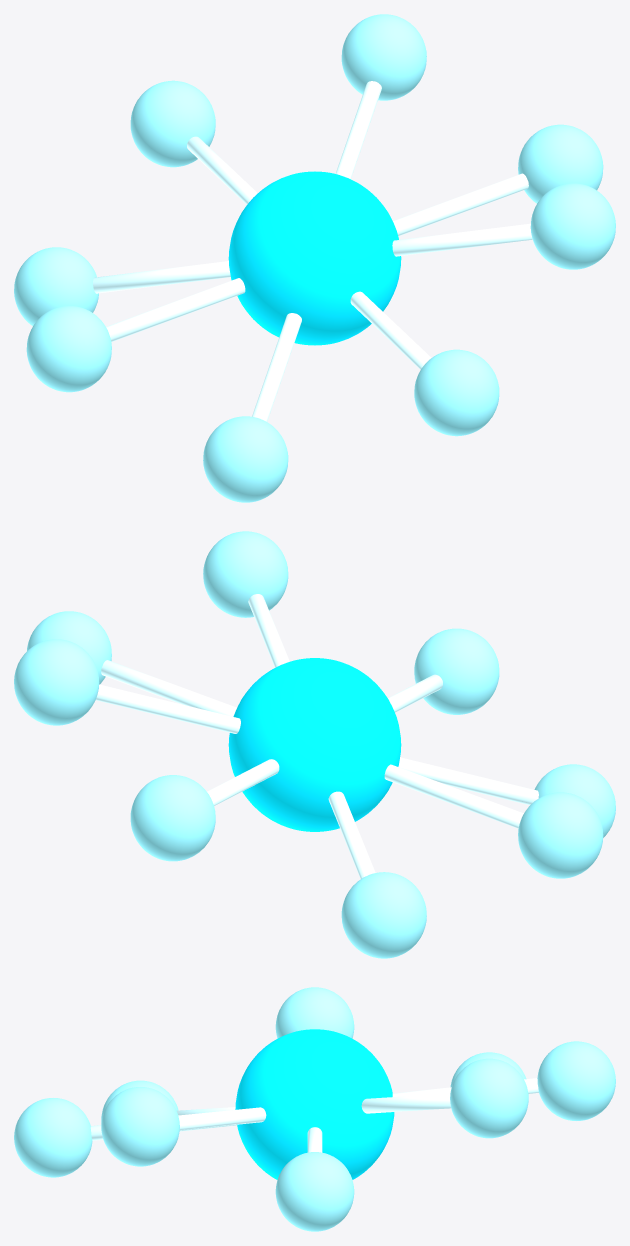
File: networking.glb
The picture shows the model from 3 angles, top to bottom: view 1: azimuth 30°, elevation 25°; view 2: azimuth 150°, elevation 25°; view 3: azimuth 270°, elevation 25°; orthographic projection. The views are drawn at different scales.
Parts seen in each view (by area): view 1: Sphere, Sphere.004, Sphere.006, Sphere.002, Sphere.007, Sphere.005, Sphere.003, Sphere.008, Sphere.001, Cylinder.001, Cylinder, Cylinder.006 (+5 smaller); view 2: Sphere, Sphere.008, Sphere.002, Sphere.003, Sphere.005, Sphere.007, Sphere.004, Sphere.006, Sphere.001, Cylinder.004, Cylinder.001, Cylinder.005 (+5 smaller); view 3: Sphere, Sphere.005, Sphere.001, Sphere.007, Sphere.003, Sphere.004, Sphere.002, Cylinder.004, Cylinder.006, Sphere.006, Sphere.008, Cylinder.002 (+1 smaller).
Boxes of the visible parts, x1,y1,x2,y2 form: Sphere: (228, 171, 401, 345); Sphere.004: (414, 349, 499, 436); Sphere.006: (203, 416, 288, 502); Sphere.002: (26, 305, 111, 392); Sphere.007: (530, 183, 615, 269); Sphere.005: (341, 14, 426, 100); Sphere.003: (130, 80, 215, 167); Sphere.008: (14, 247, 98, 325); Sphere.001: (518, 124, 603, 203); Cylinder.001: (106, 278, 245, 341); Cylinder: (393, 173, 528, 236); Cylinder.006: (392, 223, 532, 256); Sphere: (228, 658, 401, 831); Sphere.008: (341, 872, 426, 958); Sphere.002: (518, 792, 603, 878); Sphere.003: (130, 775, 215, 861); Sphere.005: (14, 639, 99, 725); Sphere.007: (203, 531, 288, 617); Sphere.004: (414, 628, 499, 714); Sphere.006: (534, 764, 615, 837); Sphere.001: (27, 611, 111, 684); Cylinder.004: (95, 684, 240, 733); Cylinder.001: (384, 764, 523, 828); Cylinder.005: (398, 757, 538, 805); Sphere: (235, 1029, 394, 1179); Sphere.005: (450, 1058, 528, 1138); Sphere.001: (275, 1152, 354, 1231); Sphere.007: (101, 1087, 179, 1166); Sphere.003: (537, 1041, 615, 1120); Sphere.004: (14, 1098, 92, 1177); Sphere.002: (275, 987, 354, 1038); Cylinder.004: (361, 1093, 451, 1113); Cylinder.006: (178, 1107, 266, 1130); Sphere.006: (101, 1080, 178, 1122); Sphere.008: (450, 1052, 526, 1087); Cylinder.002: (392, 1078, 538, 1096).
Size of the model in its own units: 0.9664 by 0.4292 by 0.9664.
